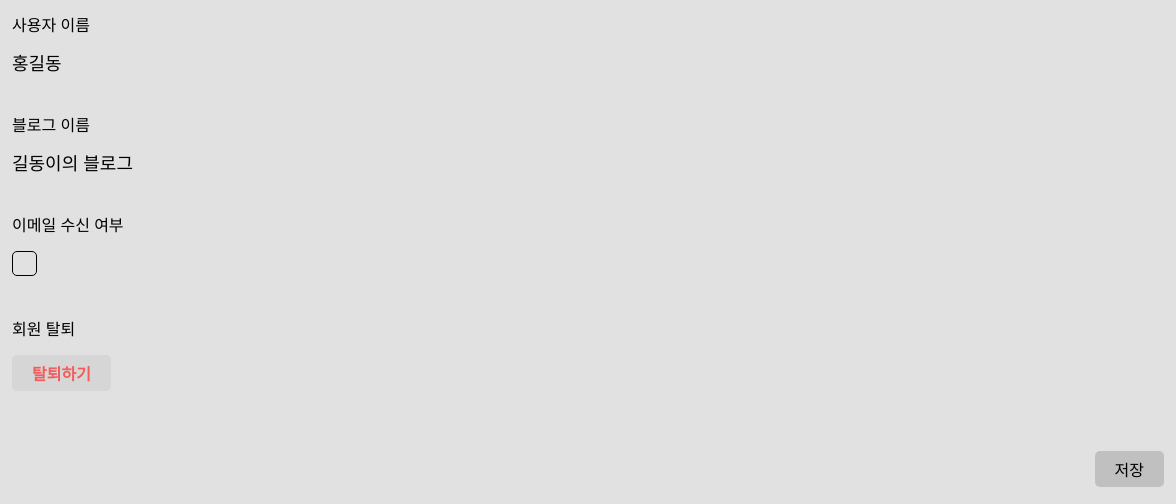
SettingWindow › 회원 탈퇴 버튼 클릭 시 모달 렌더링
What coordinates should you click on to do the following:
click the button "탈퇴하기"
I would click on:
 (61, 373)
Its box is [12, 355, 111, 391].
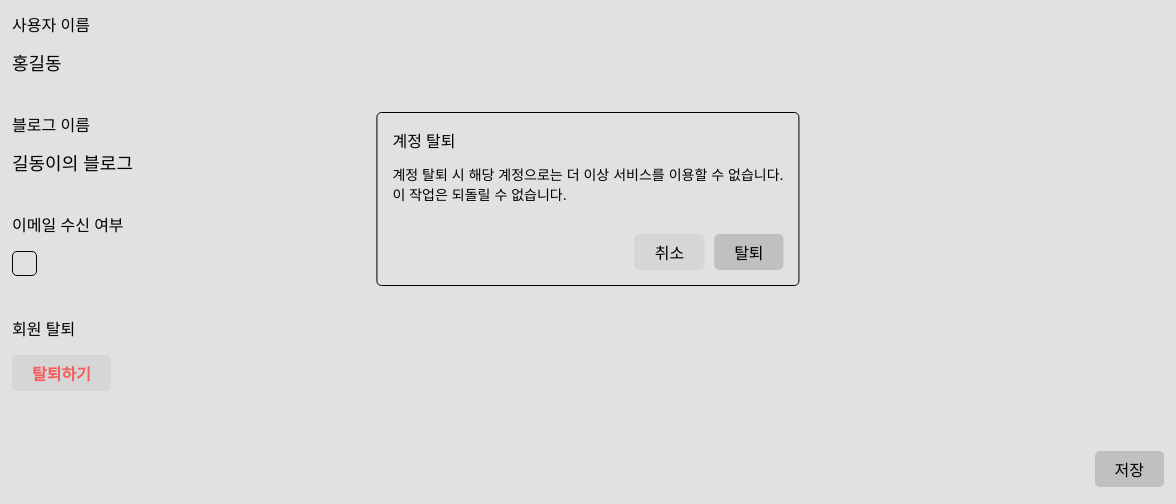
Expected: the heading "계정 탈퇴" is shown, [392, 131, 456, 151]
